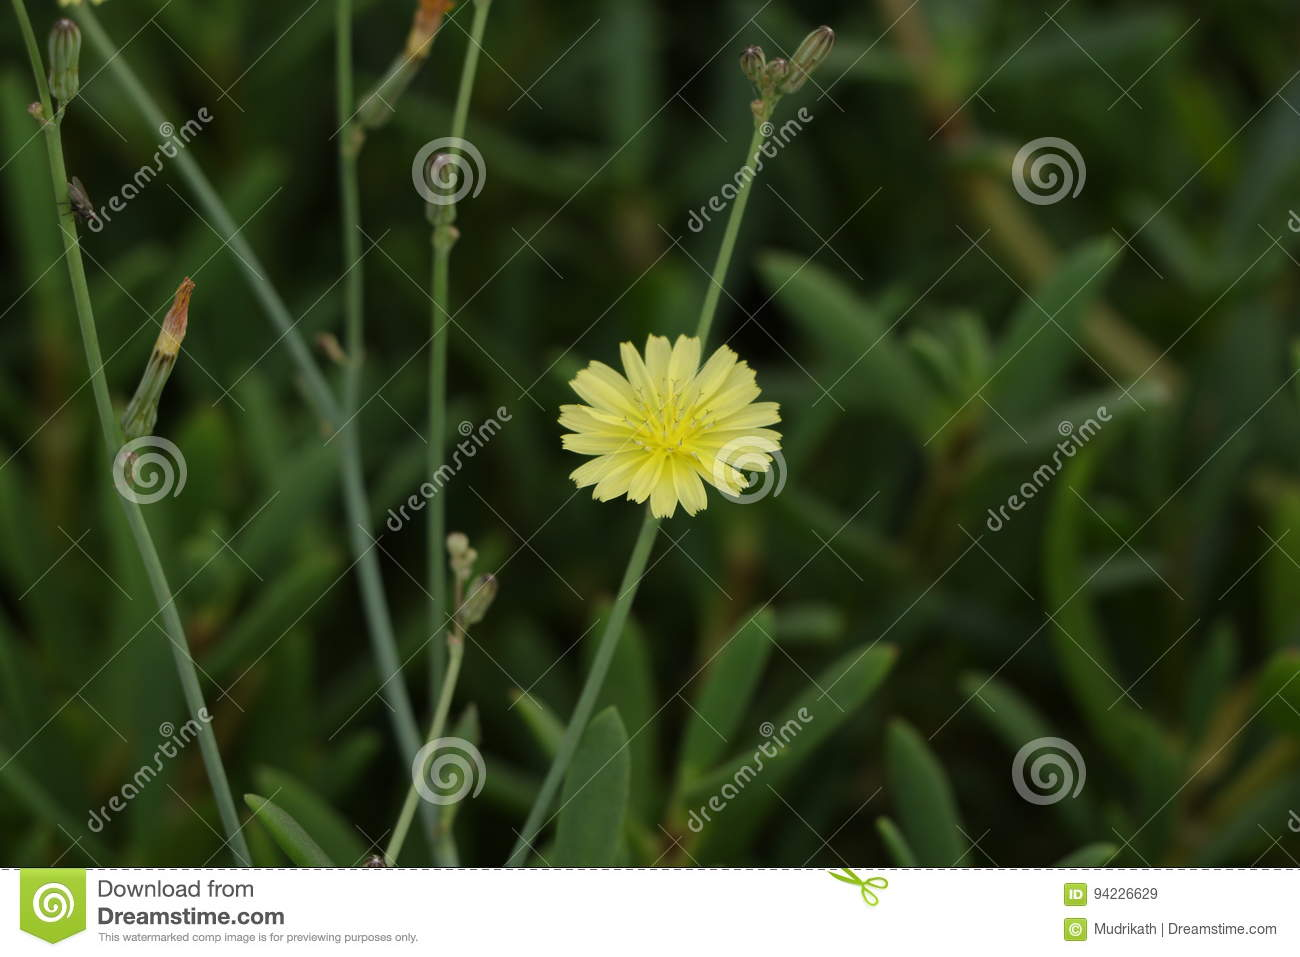dandelion: (547, 327, 770, 542)
